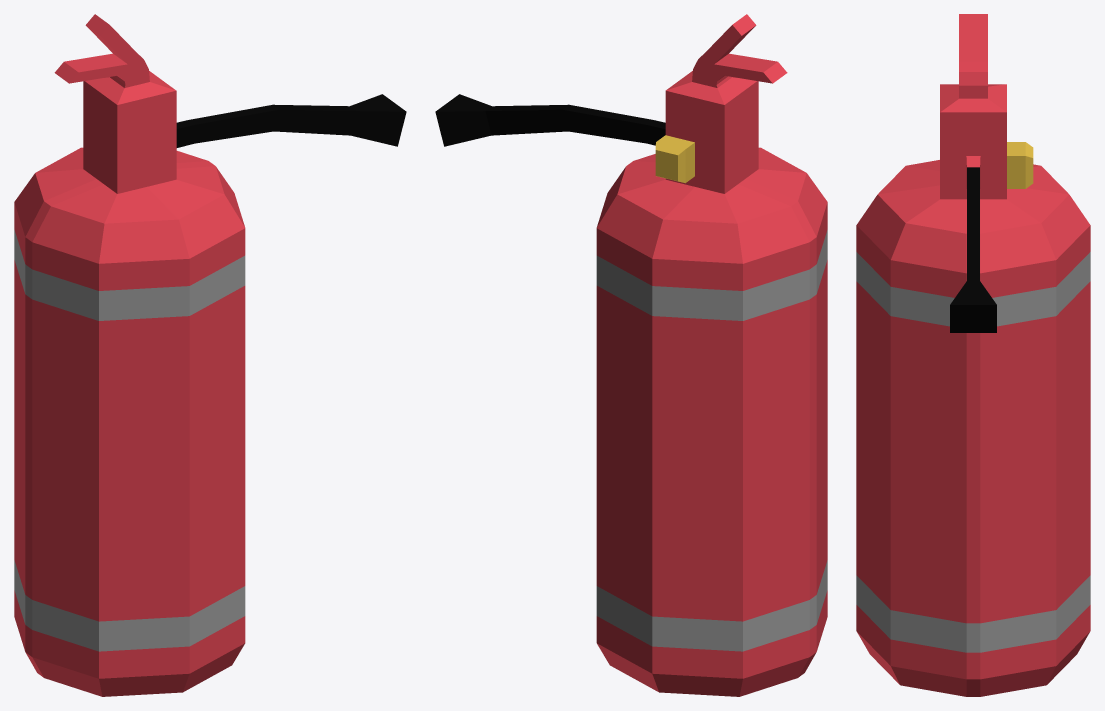
The model's file is P_Extintor.fbx.
3 views of the same model, side by side, from view 1: azimuth 30°, elevation 25°; view 2: azimuth 150°, elevation 25°; view 3: azimuth 270°, elevation 25° (orthographic). The views are drawn at different scales.
Visible parts, largest first — view 1: Cylinder; view 2: Cylinder; view 3: Cylinder.
Boxes of the visible parts, x1,y1,x2,y2 form: Cylinder: (14, 14, 406, 696); Cylinder: (435, 14, 827, 696); Cylinder: (856, 14, 1090, 696).
Size of the model in its own units: 399 by 668 by 226.
